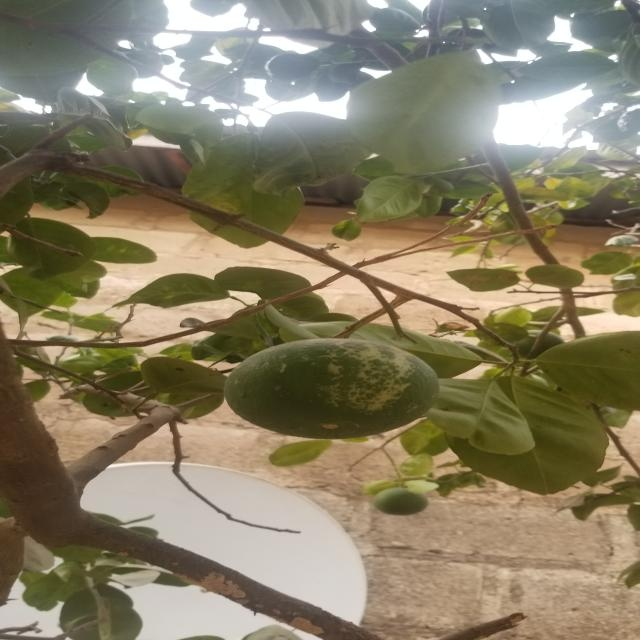agrume: (202, 329, 463, 449)
